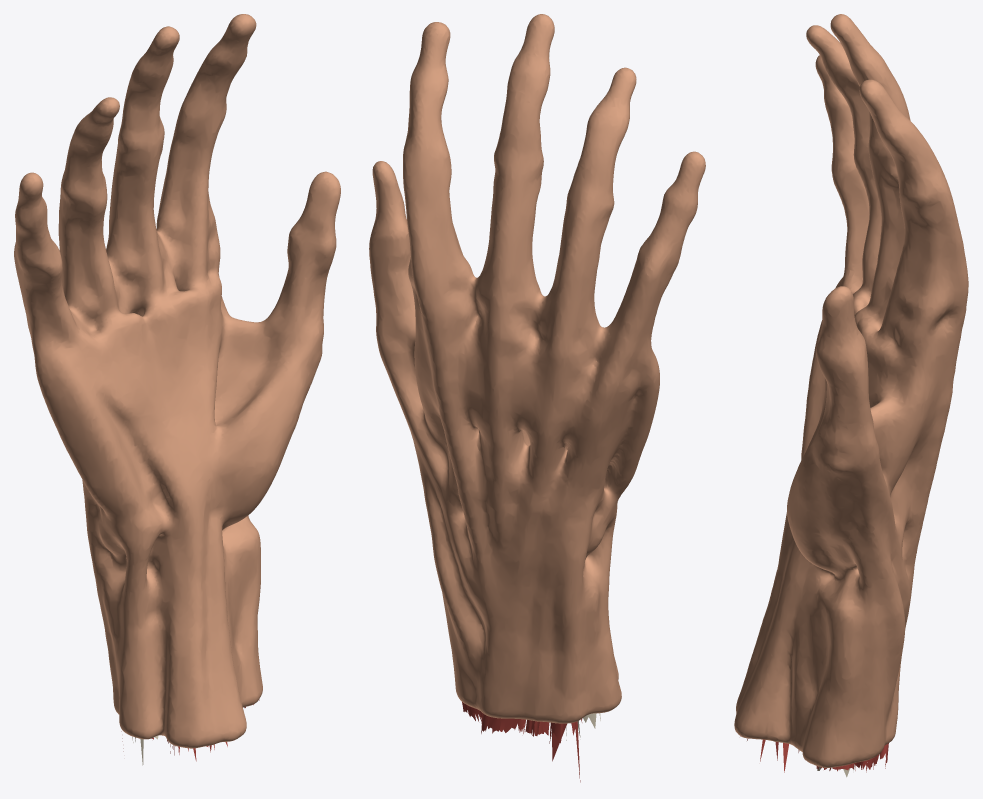
File: hand-r.glb
3 renders of one model, left to right at view 1: azimuth 30°, elevation 25°; view 2: azimuth 150°, elevation 25°; view 3: azimuth 270°, elevation 25°, orthographic. The views are drawn at different scales.
Parts seen in each view (by area): view 1: skin; view 2: skin, muscle; view 3: skin, muscle.
Part boxes in pixels (x1,y1,x2,y2): skin: (14,14,340,748); skin: (369,14,705,723); muscle: (462,702,582,782); skin: (734,14,968,767); muscle: (740,736,888,772).
Bounding box in the file's own units: 0.113 × 0.2514 × 0.0683.
